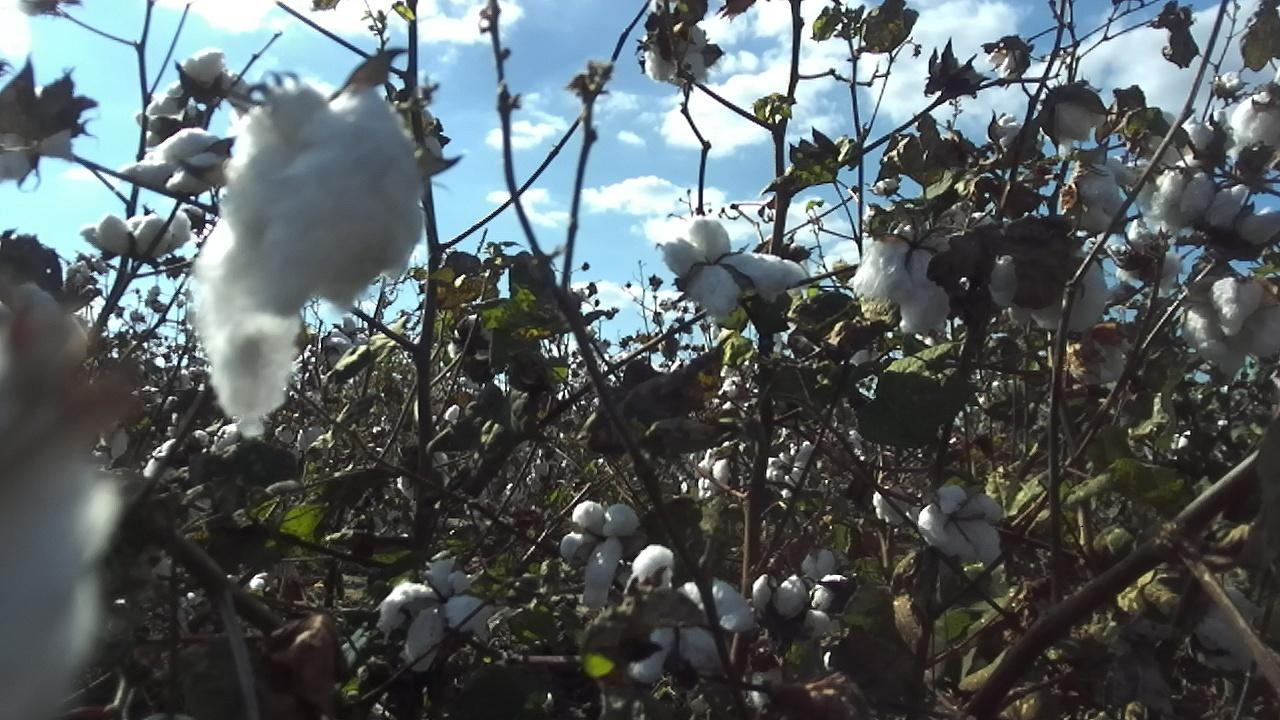cotton_ready: (195, 74, 428, 442), (0, 304, 129, 720), (654, 215, 800, 318), (626, 580, 760, 682), (378, 559, 498, 671), (849, 225, 965, 339), (1152, 169, 1280, 262), (988, 244, 1110, 338), (1181, 275, 1280, 380), (560, 499, 640, 609), (917, 479, 1007, 565), (146, 49, 256, 119), (120, 127, 234, 194), (0, 76, 69, 180), (751, 572, 856, 635), (1062, 156, 1139, 234), (1187, 585, 1259, 668), (1115, 221, 1187, 292), (79, 213, 191, 257), (643, 19, 712, 87), (1229, 94, 1280, 171), (449, 313, 497, 390), (1046, 85, 1106, 144), (1132, 107, 1189, 168)
